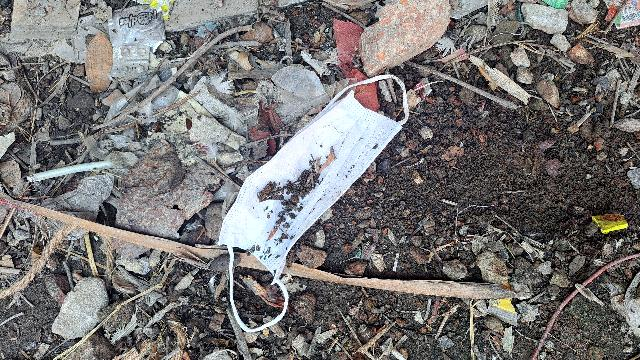mask: (209, 75, 410, 289)
